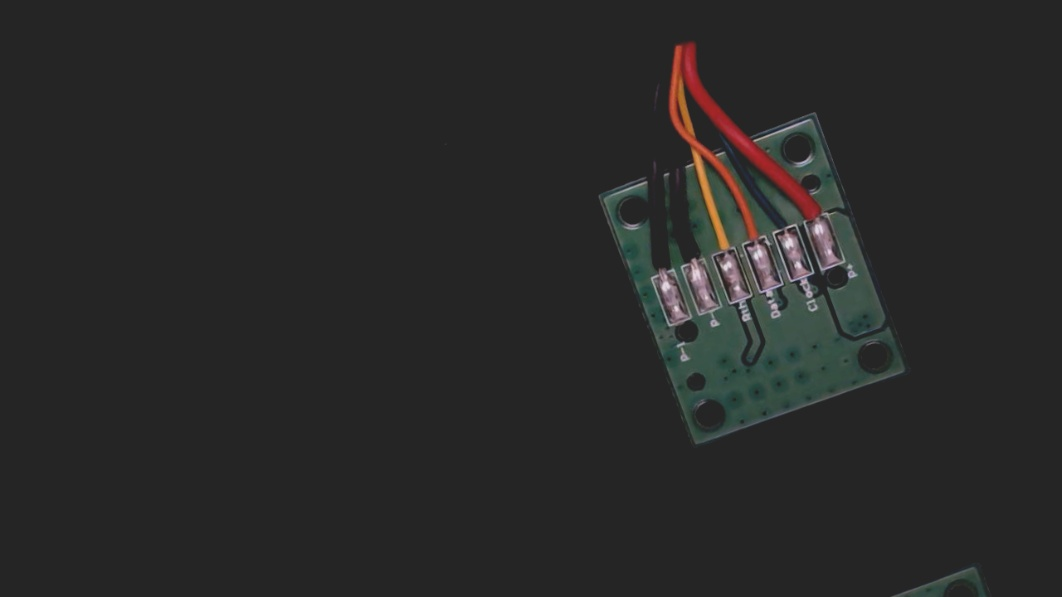Black: (665, 215, 712, 281)
Black1: (635, 233, 680, 294)
Green: (761, 195, 804, 252)
Orange: (728, 196, 773, 262)
Red: (787, 175, 833, 239)
Yellow: (693, 205, 740, 272)
